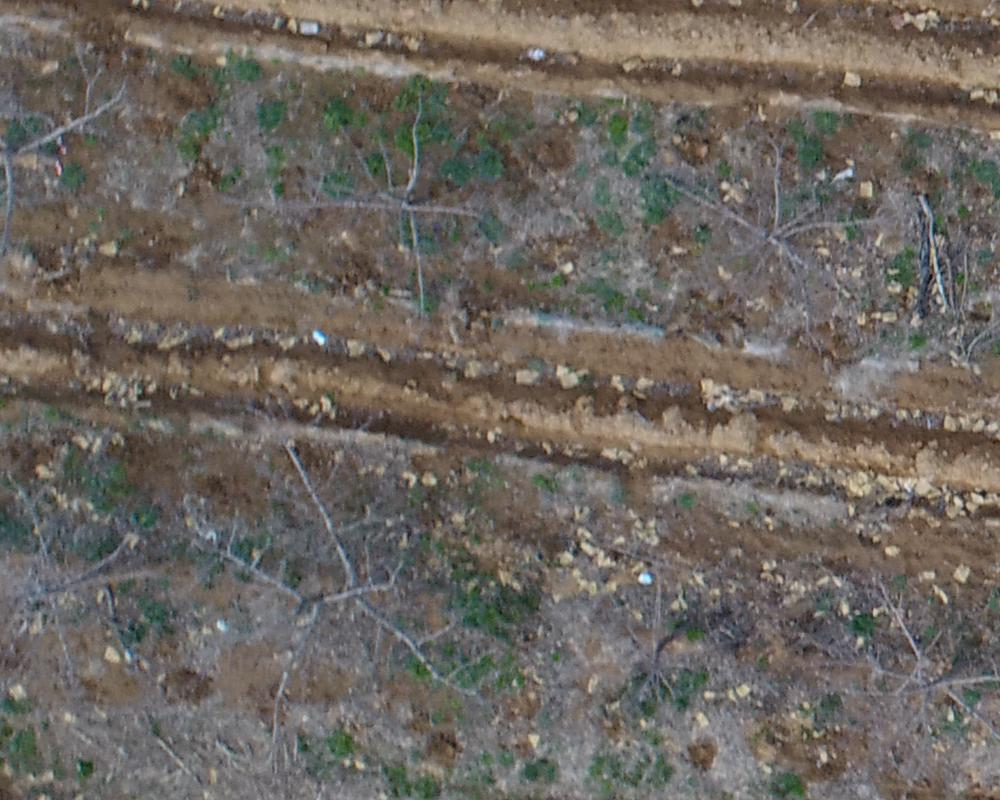apple: (195, 437, 486, 723), (244, 90, 500, 298), (649, 133, 877, 324), (10, 475, 182, 691), (821, 573, 990, 762), (549, 552, 727, 728)
